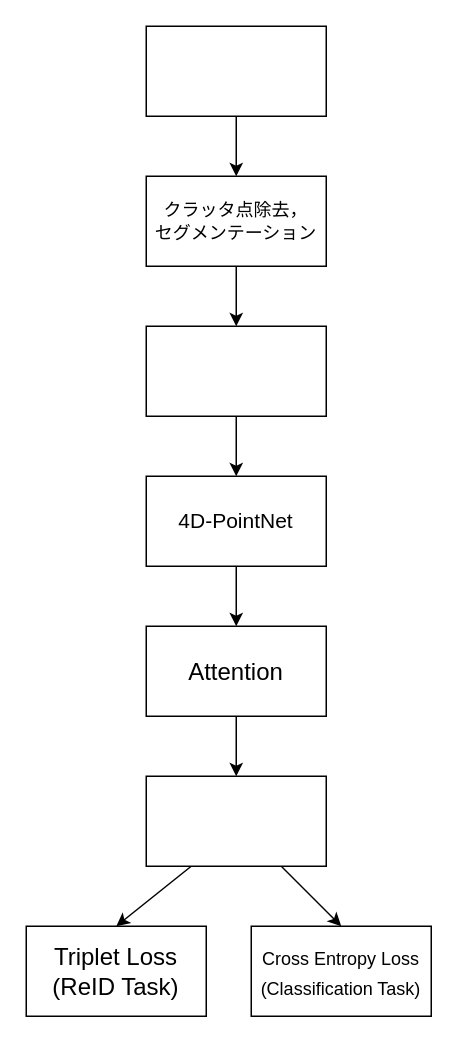
Some shapes in this 458 by 1043 pixel diagram are drawn without their labels. The shapes that lost their labels are listed below. From the top down, each one's box as (x1, y1, x2, y2) in pixels, then its label:
(145, 25, 326, 116): レーダ点群
(145, 325, 326, 416): 正規化
(145, 775, 326, 866): Bi-LSTM
